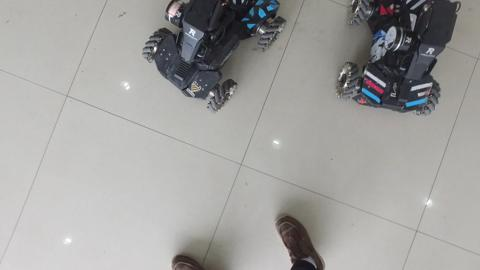chariot: (140, 1, 288, 124), (328, 1, 464, 128)
